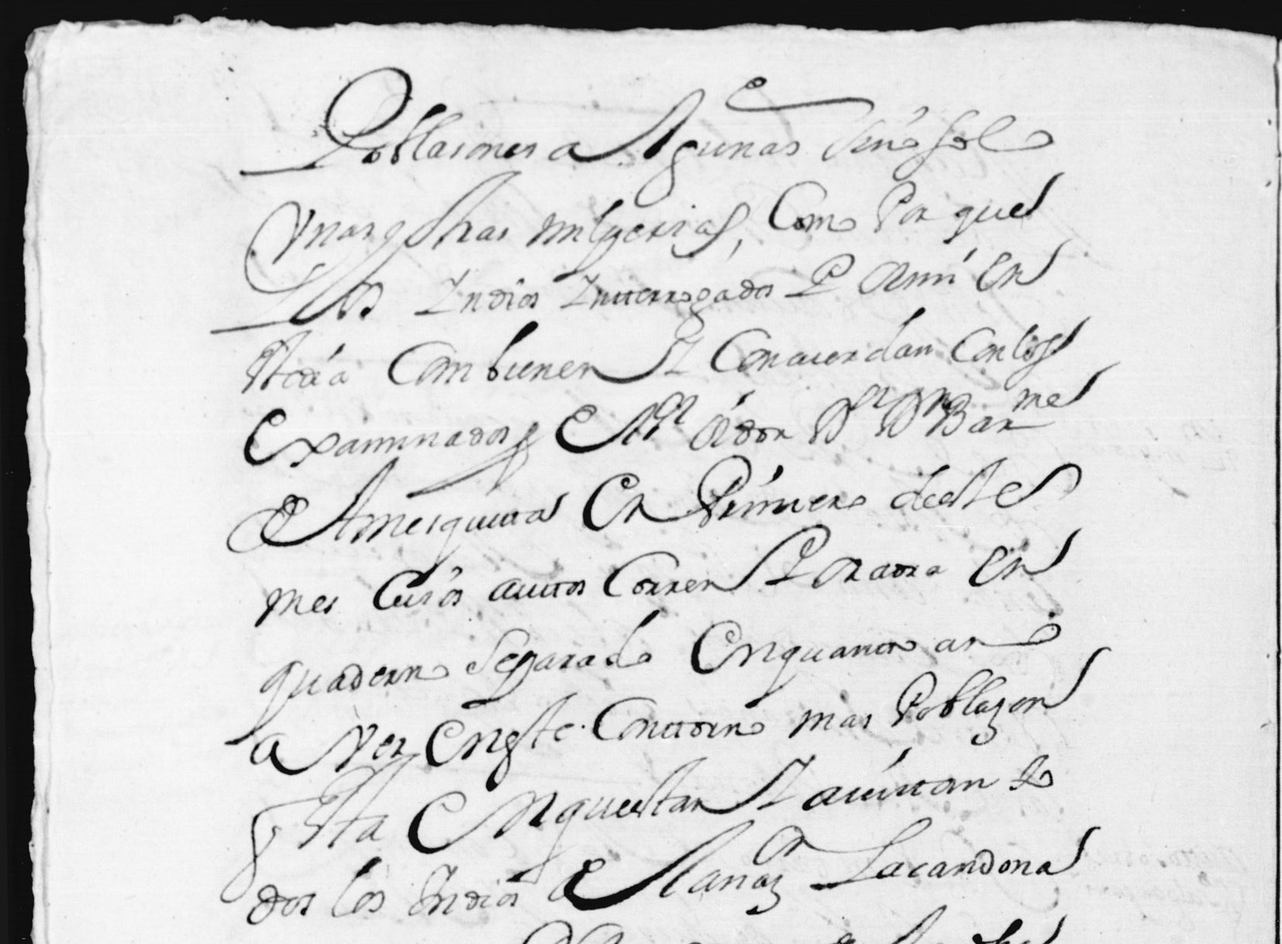lacandon: (809, 817, 1101, 891)
